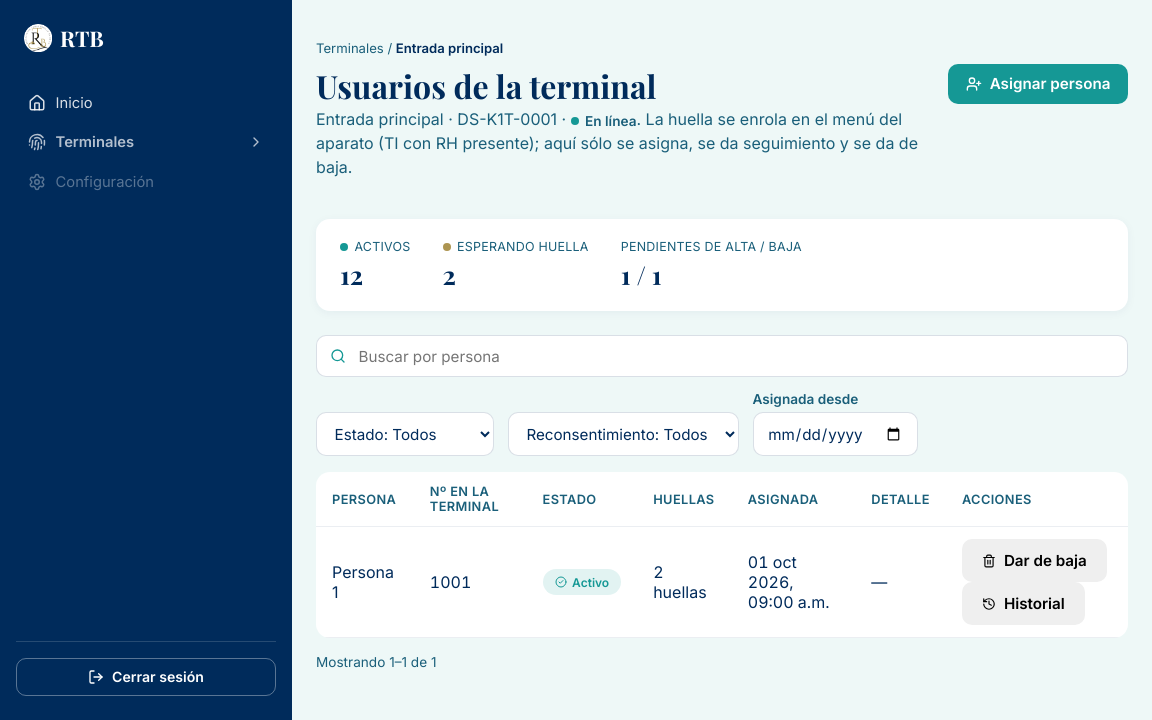
Test: UsuariosTerminalPage › acciones (F3) › con permiso de edición ofrece Asignar persona y, tras asignar, recarga las altas
Expected: the text "Persona 1" is shown, [316, 527, 414, 638]
Step 1. Click the button "Asignar persona" → x=1038, y=84, box [948, 64, 1128, 104]
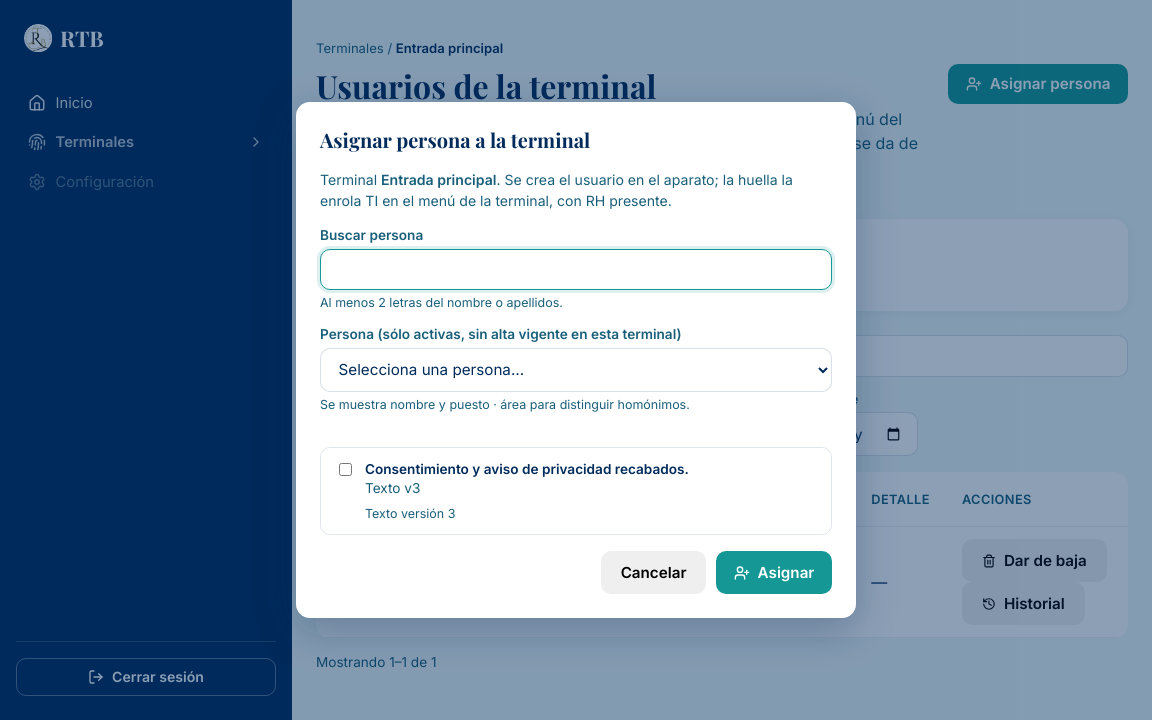
Now the dialog "Asignar persona a la terminal" is shown, box [296, 102, 856, 618]
Step 2. Select "Ana Torres — Auxiliar · Bodega" in the dropdown labelled "Persona (sólo activas, sin alta vigente en esta terminal)" → x=576, y=370, box [320, 348, 832, 392]
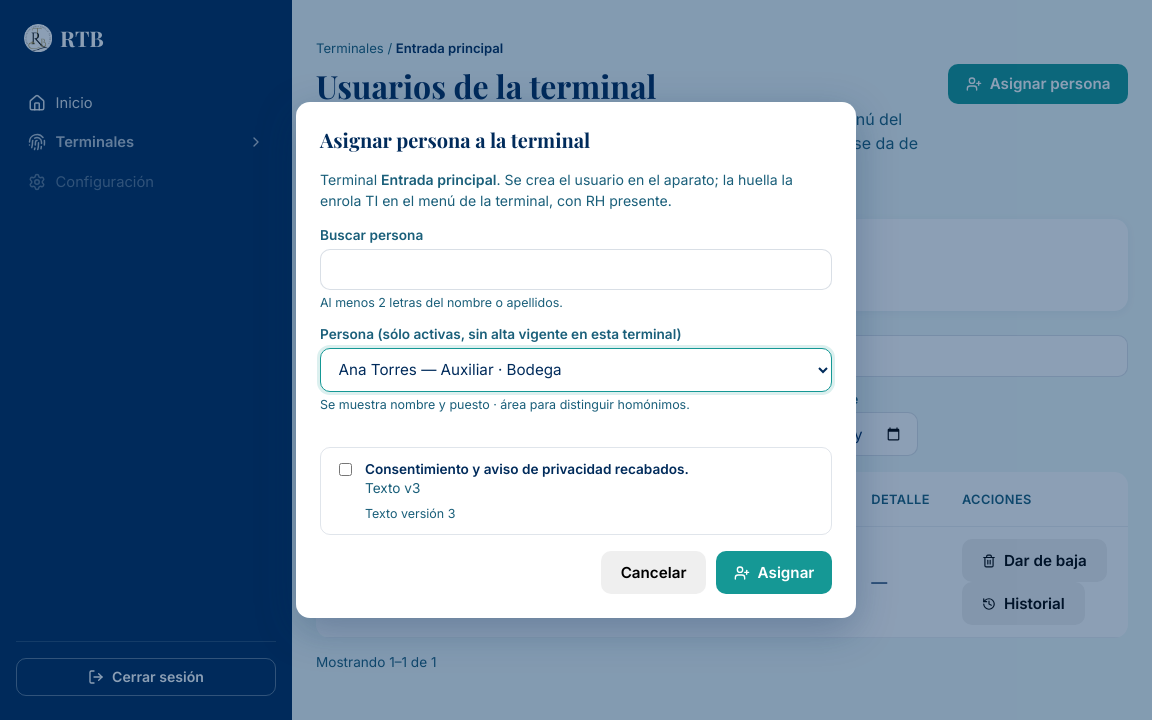
Step 3. Click the checkbox labelled "Consentimiento y aviso de privacidad recabados" → x=346, y=470, box [339, 463, 352, 476]
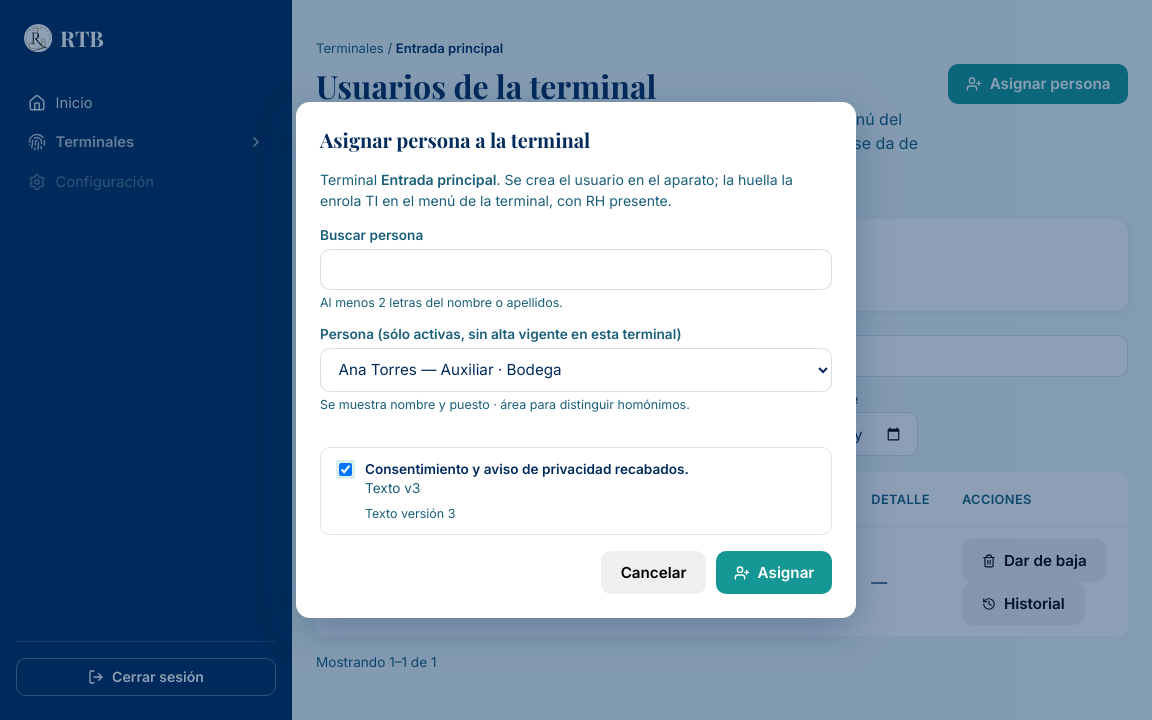
Step 4. Click the button "Asignar" → x=774, y=573, box [716, 551, 832, 594]
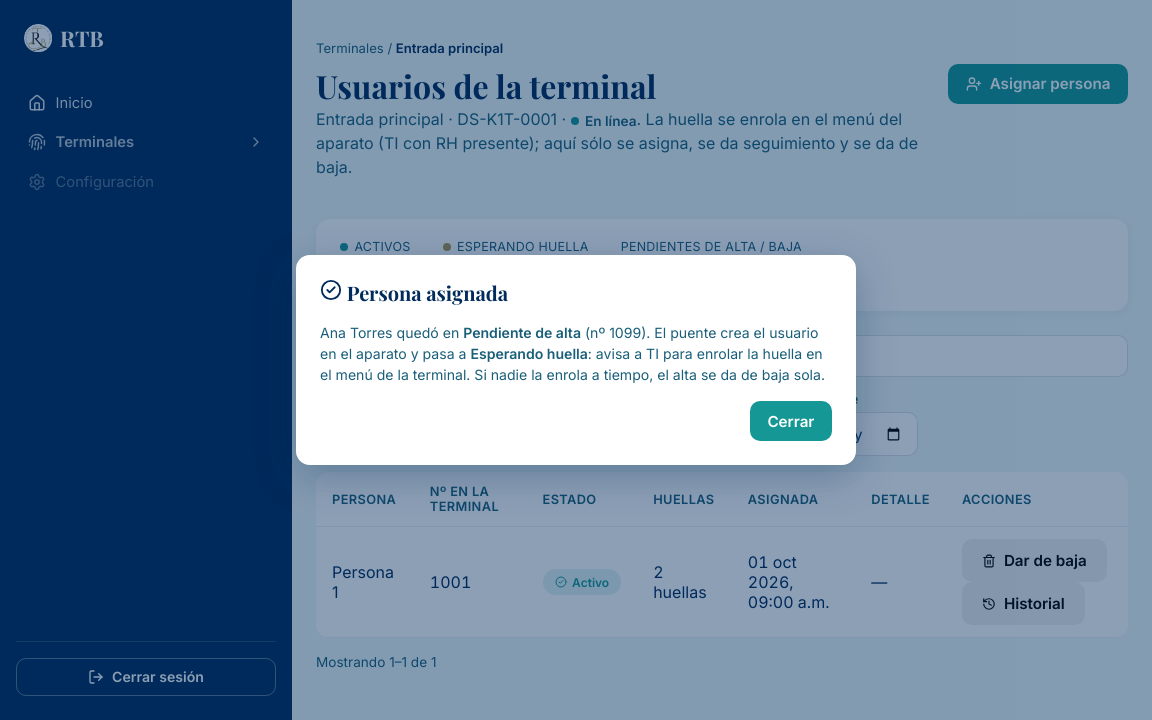
Step 5. Click the button "Cerrar" → x=791, y=421, box [750, 401, 832, 441]
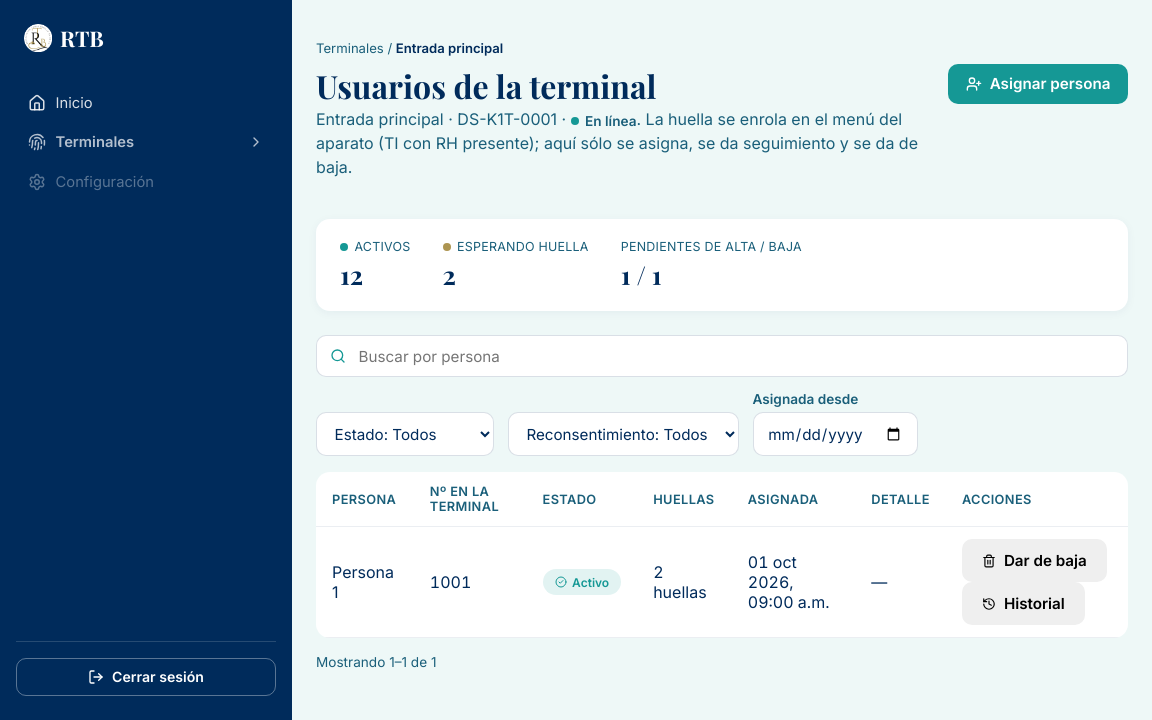
Now the dialog is gone
